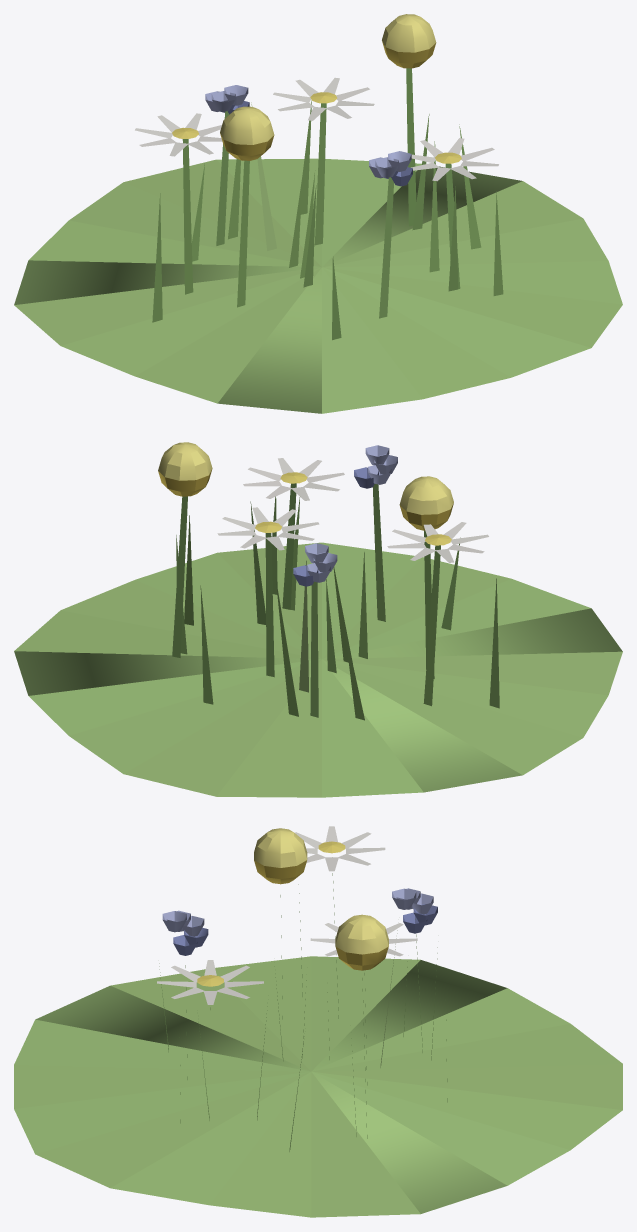
File: Wildflower_Patch.glb
The picture shows the model from 3 angles, top to bottom: view 1: azimuth 30°, elevation 25°; view 2: azimuth 150°, elevation 25°; view 3: azimuth 270°, elevation 25°; orthographic projection. The views are drawn at different scales.
Visible parts, largest first — view 1: Wildflower_Patch_Merged; view 2: Wildflower_Patch_Merged; view 3: Wildflower_Patch_Merged.
Boxes of the visible parts, x1,y1,x2,y2 form: Wildflower_Patch_Merged: [14, 14, 622, 413]; Wildflower_Patch_Merged: [14, 442, 622, 797]; Wildflower_Patch_Merged: [14, 826, 622, 1217].
Bounding box in the file's own units: 1.1 × 0.5129 × 1.08.
